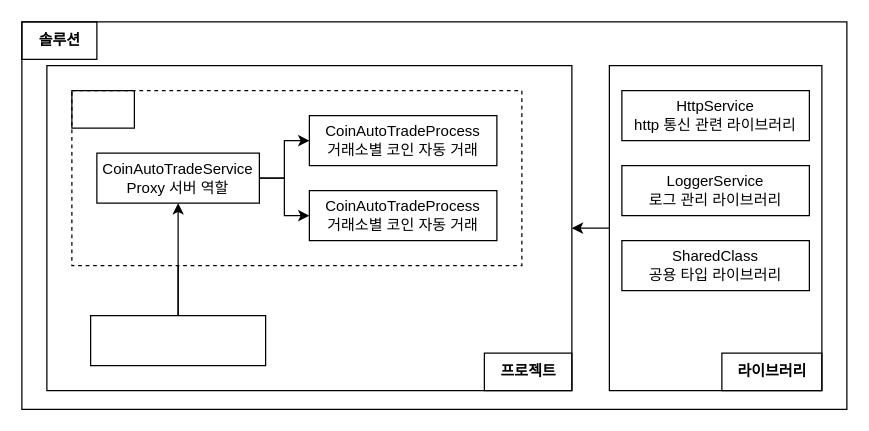
The diagram is 869 pixels wide and 431 high, and some of its shapes have lost their labels. The shapes that lost their labels are listed below. From the top down, each one's centre as x and y in pixels, then its label:
the point at 102,108: AWS
the point at 177,340: CoinAutoTradeConsole 사용자 GUI Console
